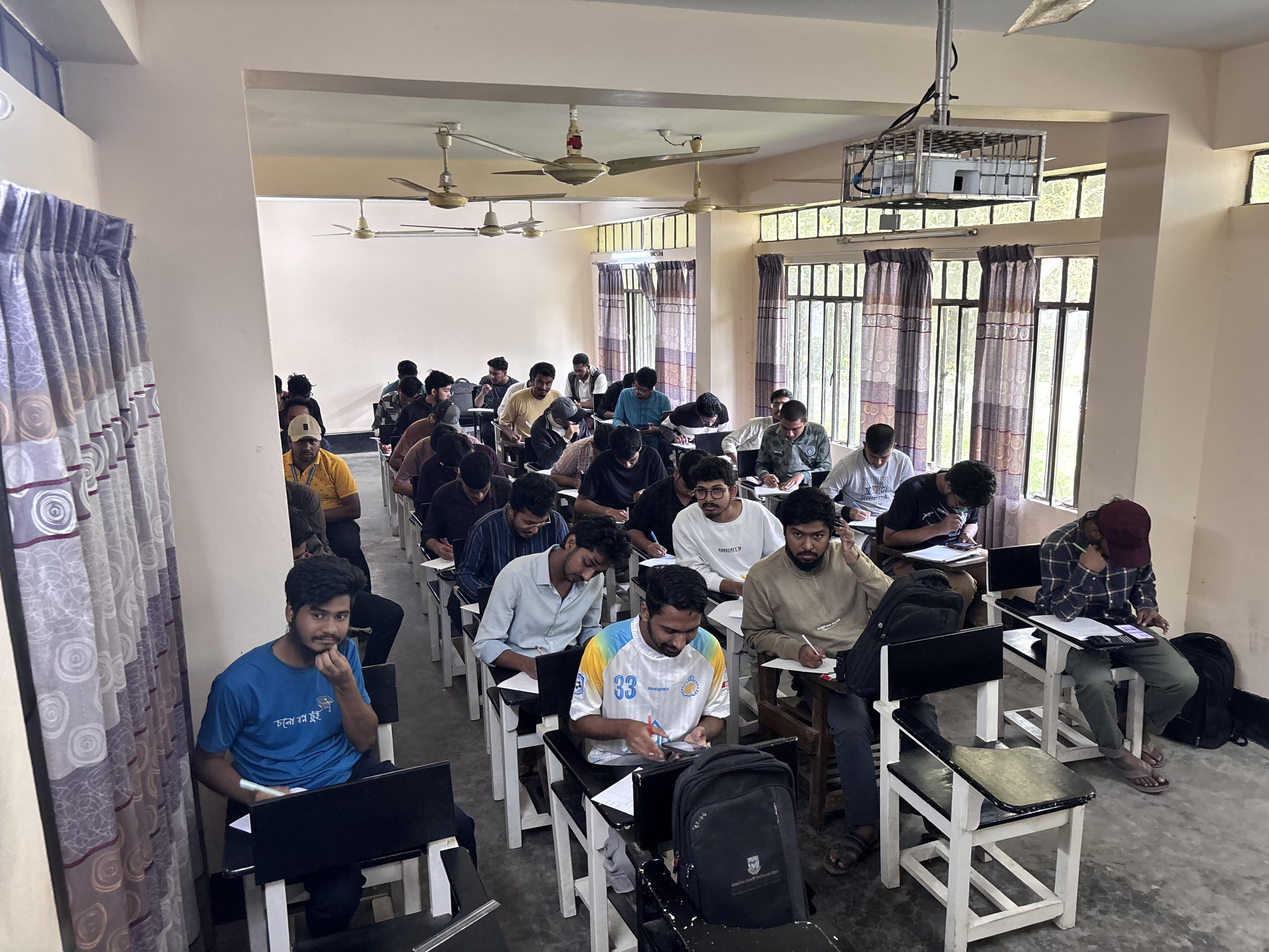copying: (540, 394, 587, 446), (625, 366, 666, 420), (426, 368, 456, 399)
hidden_communication: (476, 354, 515, 406), (527, 362, 555, 406)
no_cheating: (212, 557, 410, 834), (752, 490, 874, 692), (512, 520, 637, 669), (673, 461, 758, 575), (843, 421, 906, 526), (765, 405, 825, 497), (598, 429, 658, 519), (443, 453, 507, 537), (502, 474, 560, 558), (286, 415, 334, 475), (684, 396, 727, 440), (670, 446, 700, 506), (569, 352, 608, 389)
using_phone: (1037, 486, 1206, 794), (581, 571, 718, 768), (901, 452, 1000, 578)
